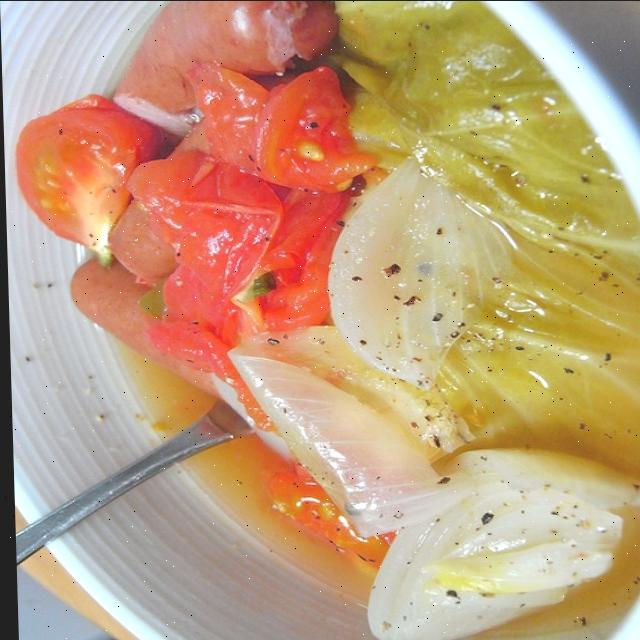汤锅炖物: (5, 2, 640, 638)
